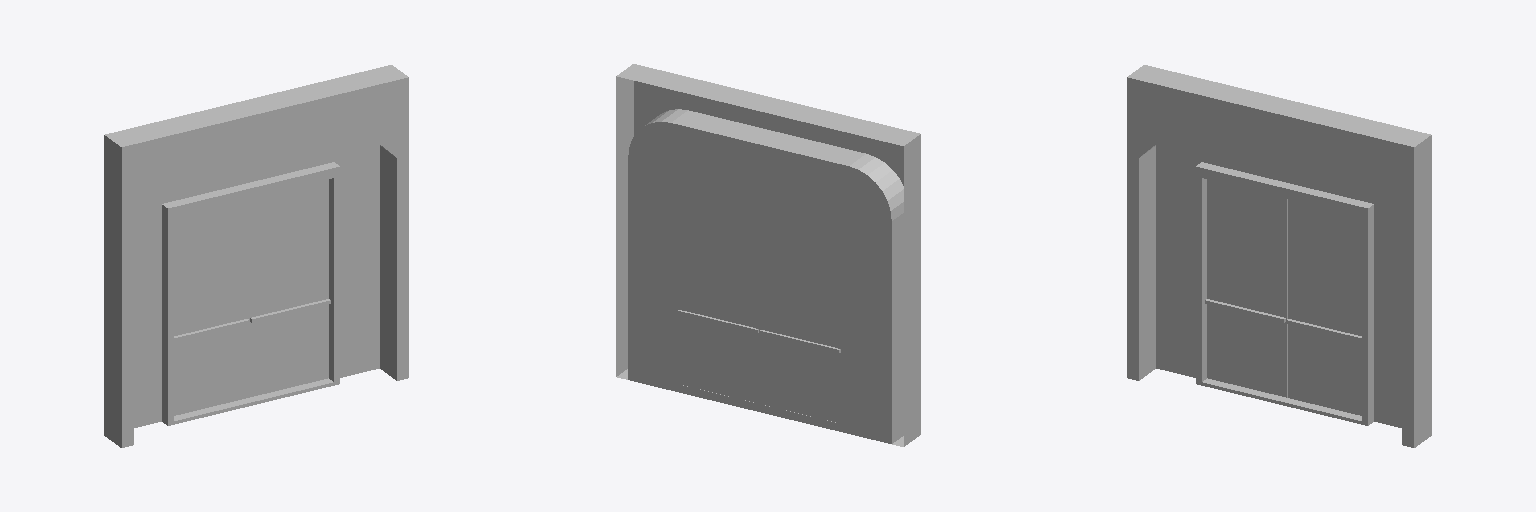
Rendered from restaurant door.obj.
The picture shows the model from 3 angles: view 1: azimuth 30°, elevation 25°; view 2: azimuth 150°, elevation 25°; view 3: azimuth 330°, elevation 25°; orthographic projection.
Visible parts, largest first — view 1: wall.005_Plane.007, wall.007_Plane.015, wall.006_Plane.012; view 2: wall.005_Plane.007, wall.006_Plane.012, wall.007_Plane.015; view 3: wall.005_Plane.007, wall.006_Plane.012, wall.007_Plane.015.
Part boxes in pixels (bbox=[...]): wall.005_Plane.007: bbox=[104, 65, 408, 447]; wall.007_Plane.015: bbox=[249, 179, 330, 397]; wall.006_Plane.012: bbox=[174, 199, 249, 415]; wall.005_Plane.007: bbox=[616, 64, 920, 446]; wall.006_Plane.012: bbox=[760, 205, 841, 428]; wall.007_Plane.015: bbox=[678, 185, 759, 408]; wall.005_Plane.007: bbox=[1127, 65, 1431, 447]; wall.006_Plane.012: bbox=[1205, 179, 1287, 397]; wall.007_Plane.015: bbox=[1286, 199, 1361, 415].
Size of the model in its own units: 6.37 by 6.37 by 0.7136.